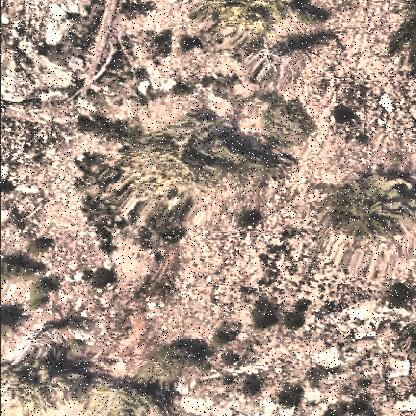tree-top: (149, 109, 293, 216), (3, 338, 89, 416), (333, 167, 413, 237), (203, 1, 299, 48), (144, 336, 212, 387)
